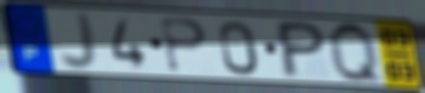0: (215, 19, 263, 77)
4: (109, 16, 150, 71)
J: (58, 9, 100, 73)
P: (277, 19, 329, 80), (158, 16, 210, 75)
Q: (325, 19, 387, 87)
